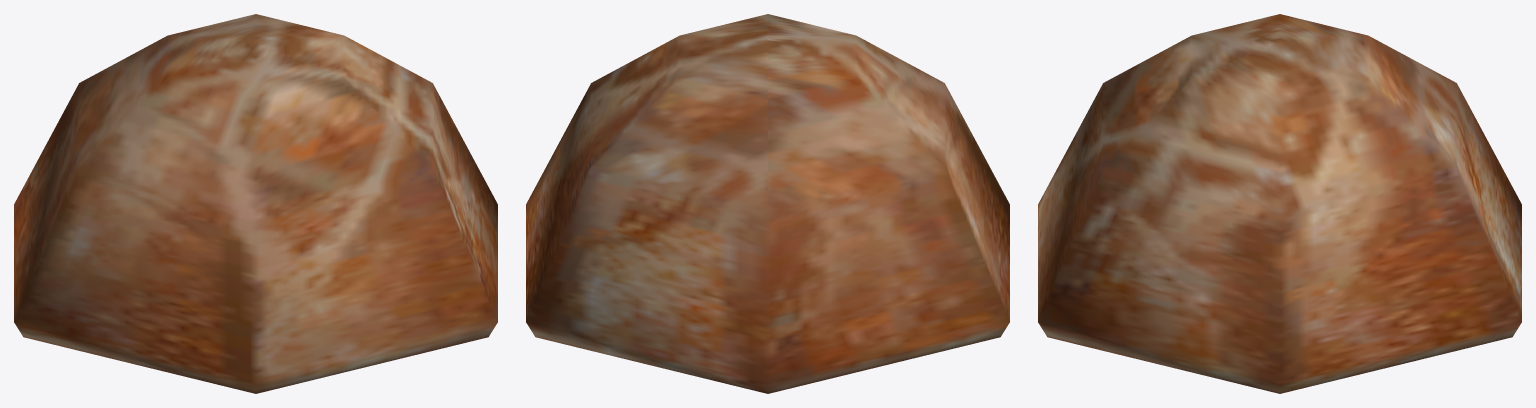
Rendered from edb_food_bread_loaf_full_s1_l0.fbx.
3 views of the same model, side by side, from view 1: azimuth 30°, elevation 25°; view 2: azimuth 150°, elevation 25°; view 3: azimuth 270°, elevation 25° (orthographic).
Visible parts, largest first — view 1: mesh_node; view 2: mesh_node; view 3: mesh_node.
Part boxes in pixels (<box>): mesh_node: <box>14,14,497,393</box>; mesh_node: <box>526,14,1009,393</box>; mesh_node: <box>1038,14,1521,393</box>.
Bounding box in the file's own units: 0.2928 × 0.1379 × 0.2536.
Materials: 1 (1 with a texture image).
